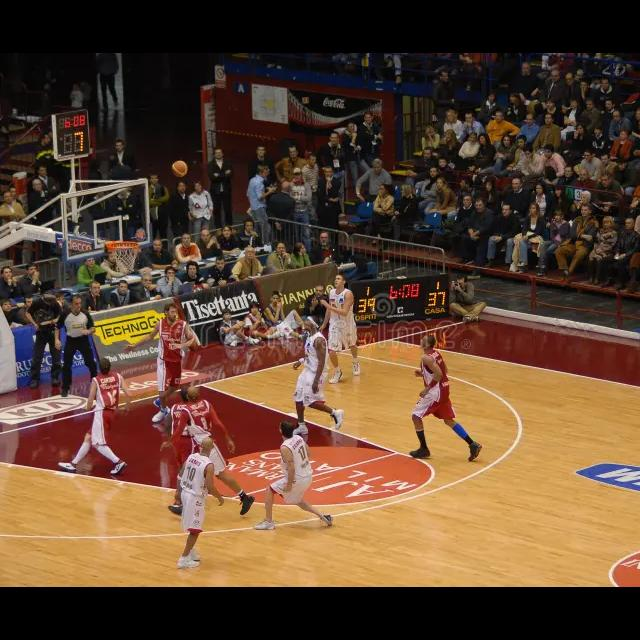basketball: (172, 161, 187, 177)
hoop: (106, 241, 142, 274)
